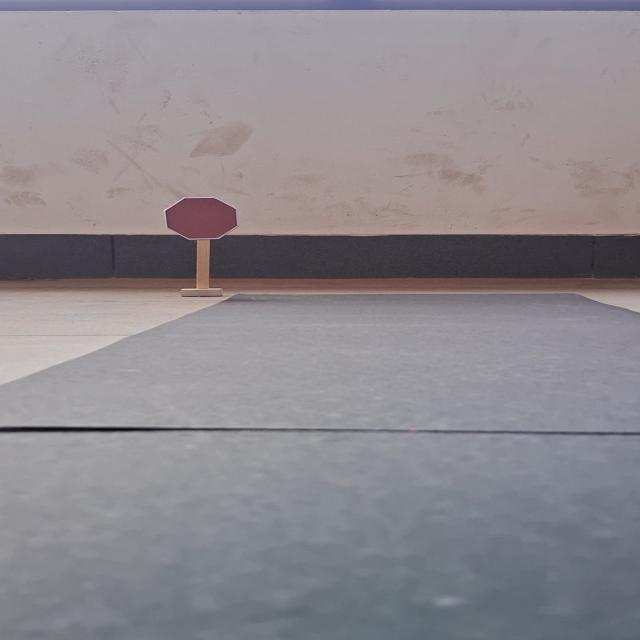Stop: (163, 197, 240, 241)
